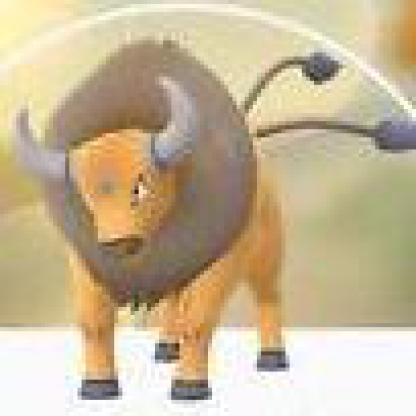Tauros: (1, 1, 413, 413)
